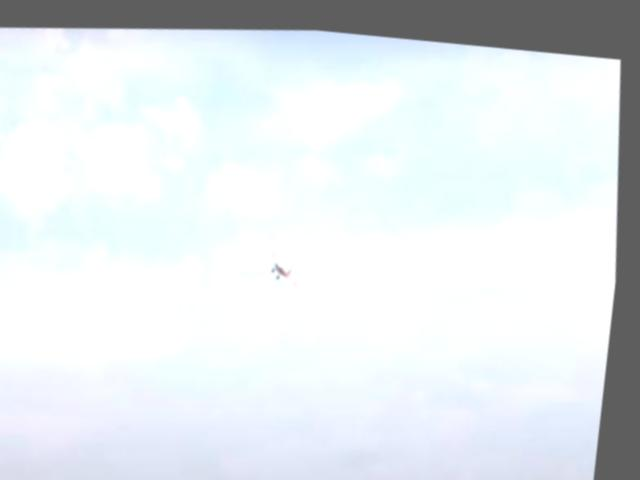uav: (263, 230, 311, 289)
